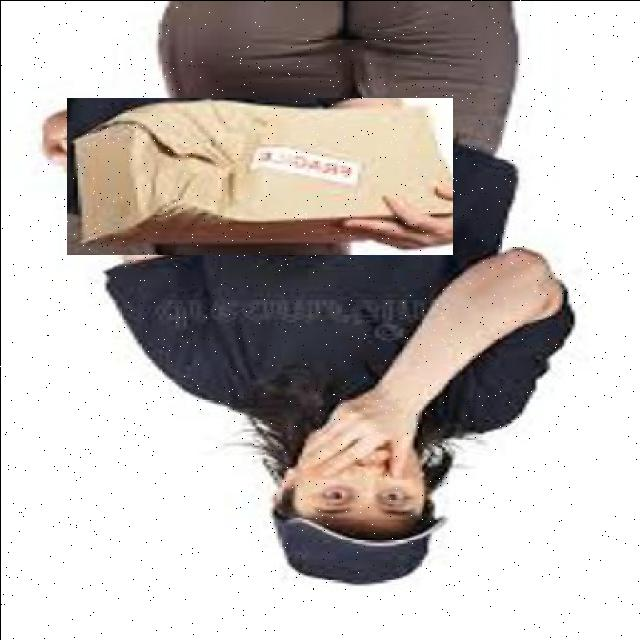defect: (66, 97, 452, 254)
